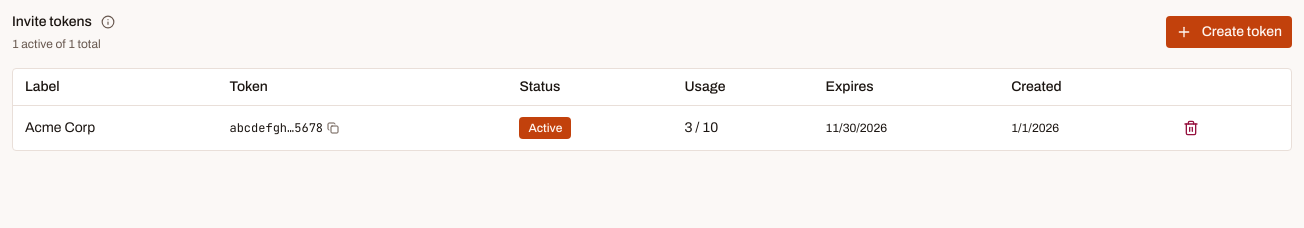
it: AgentInviteTokensTab › error handling › shows generic error message when revoke throws non-APIClientError
The image size is (1304, 228).
Expected: the text "active" is shown, [519, 117, 572, 139]
Click the button named "Revoke token Acme Corp". click: {"x": 1191, "y": 128}
box: [1173, 114, 1209, 142]
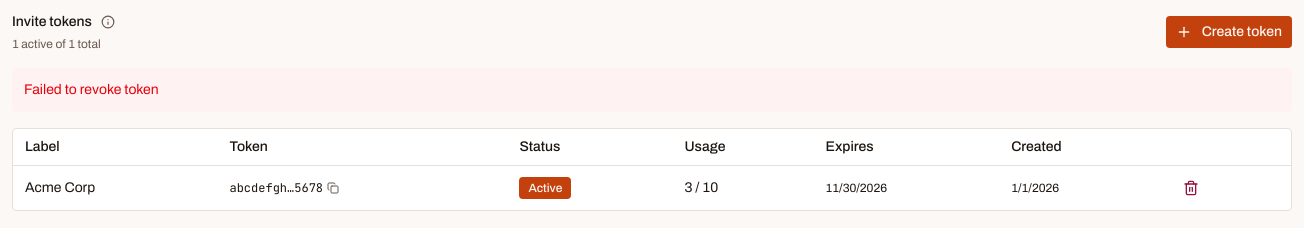
Expected: the text "Failed to revoke token" is shown, [12, 68, 1292, 112]
